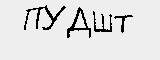Е: (59, 23, 79, 44), (119, 19, 133, 38)
Л: (81, 26, 100, 41)
Н: (18, 22, 39, 43)
Ф: (101, 22, 118, 42)
Ғ: (38, 24, 57, 43)
